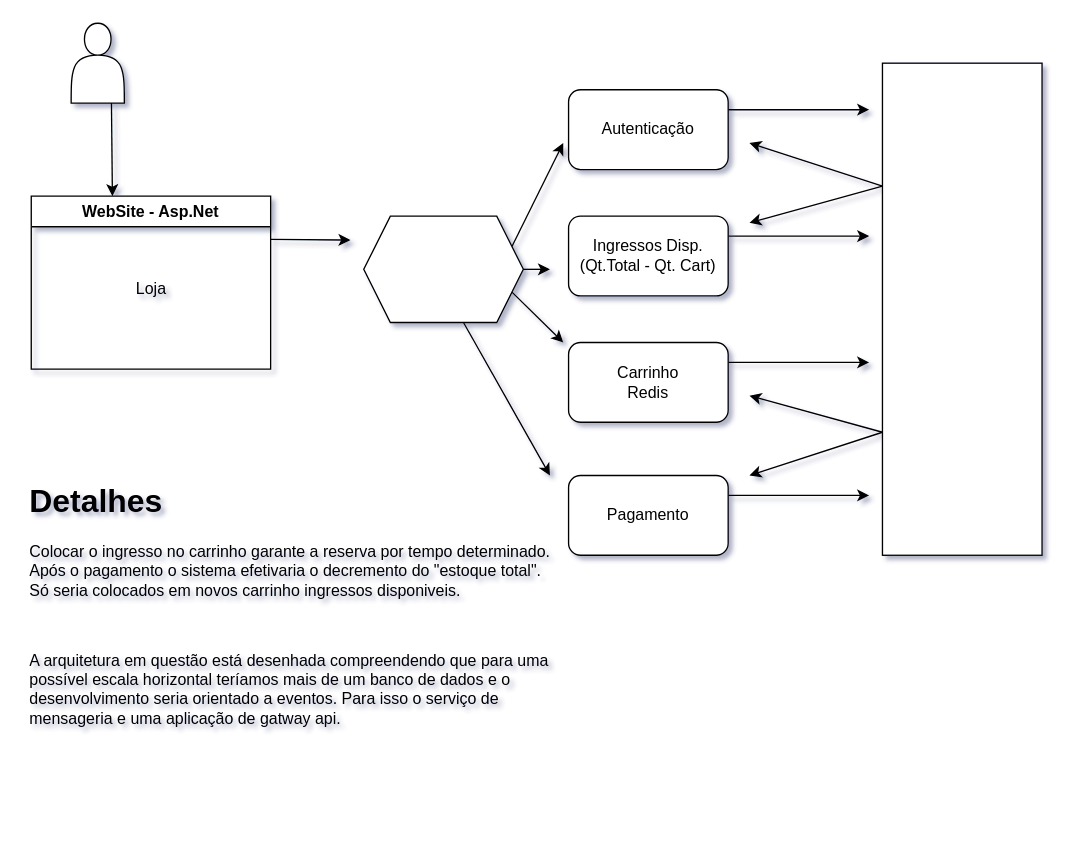
Some shapes in this 1073 by 866 pixel diagram are drawn without their labels. The centre of each missing label's shape, as x and y in pixels:
"RabbitMQ" goes at (961,308).
"WebApi (Ocelot)" goes at (442,269).
